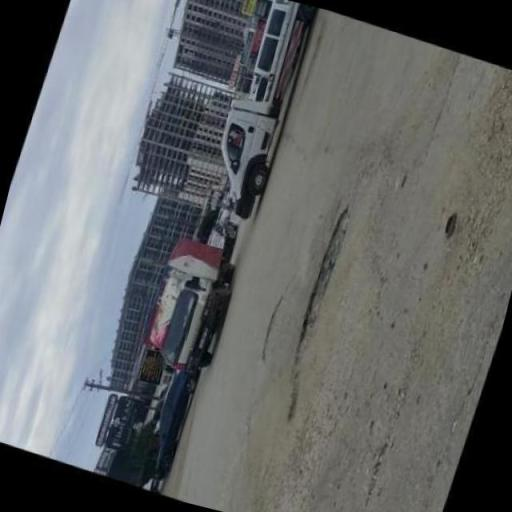pothole: (184, 80, 508, 332)
